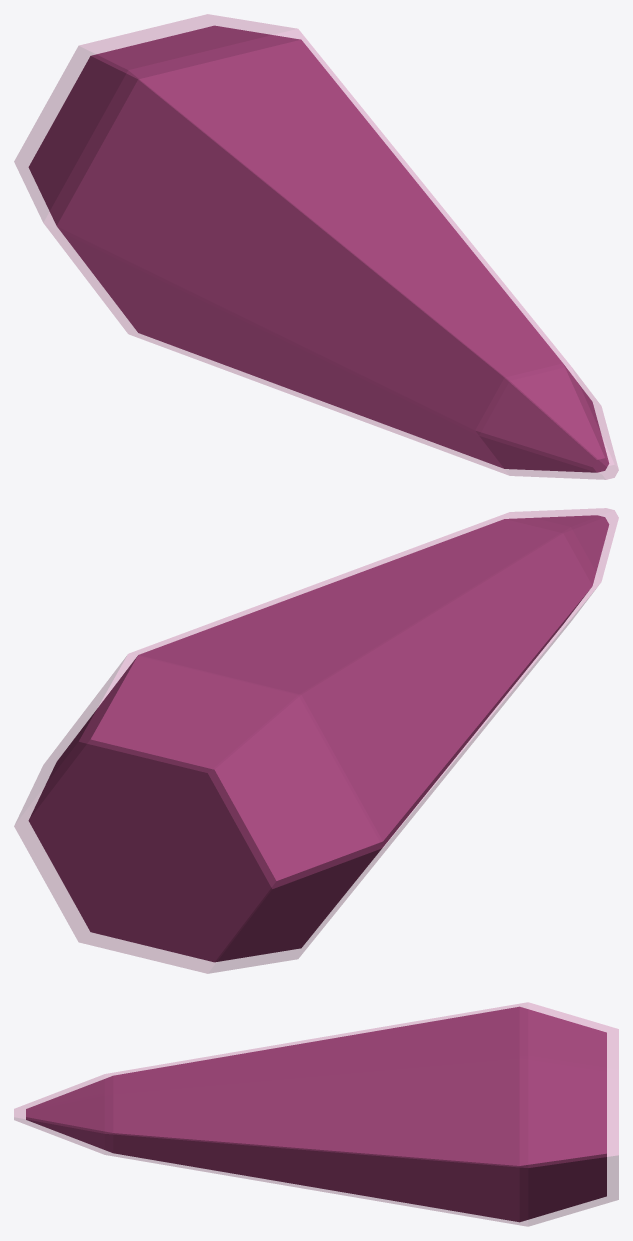
File: item_7item203.glb
3 renders of one model, top to bottom at view 1: azimuth 30°, elevation 25°; view 2: azimuth 150°, elevation 25°; view 3: azimuth 270°, elevation 25°, orthographic. The views are drawn at different scales.
Parts seen in each view (by area): view 1: jewellery_7item203_glass, jewellery_7item203; view 2: jewellery_7item203_glass, jewellery_7item203; view 3: jewellery_7item203_glass, jewellery_7item203.
Boxes of the visible parts, x1,y1,x2,y2 form: jewellery_7item203_glass: [14, 14, 618, 479]; jewellery_7item203: [28, 25, 609, 472]; jewellery_7item203_glass: [14, 508, 618, 973]; jewellery_7item203: [28, 515, 609, 962]; jewellery_7item203_glass: [14, 1002, 618, 1226]; jewellery_7item203: [26, 1006, 606, 1222].
Bounding box in the file's own units: 0.42 × 0.3118 × 1.
